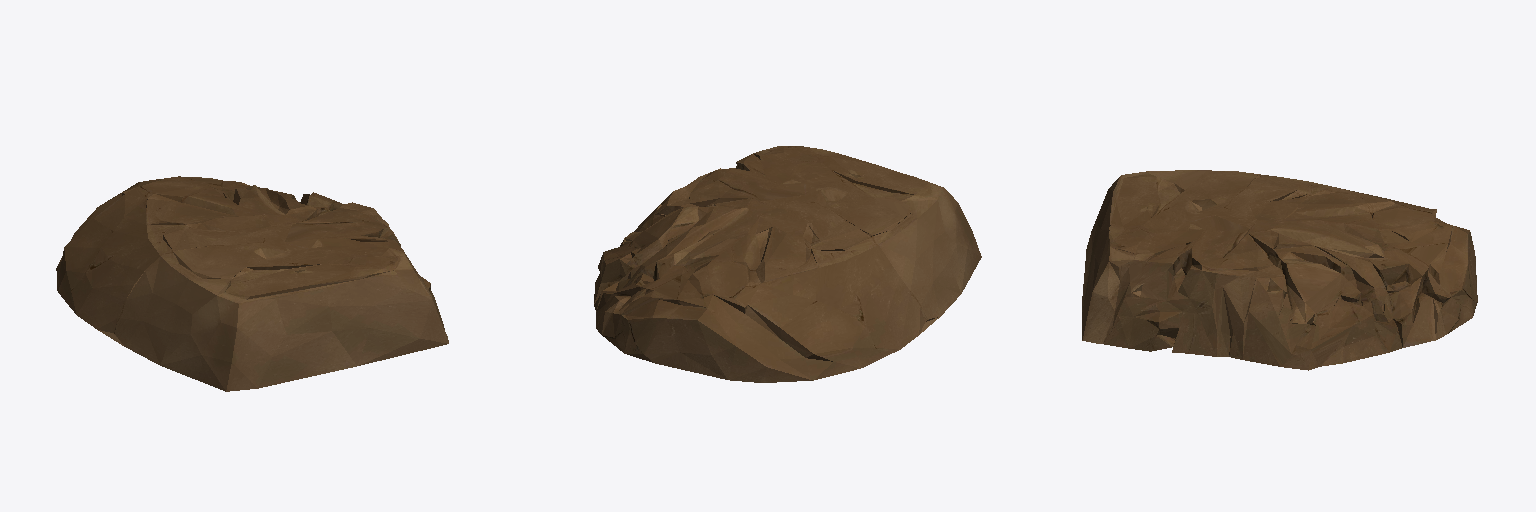
3 views of the same model, side by side, from view 1: azimuth 30°, elevation 25°; view 2: azimuth 150°, elevation 25°; view 3: azimuth 270°, elevation 25° (orthographic).
Parts seen in each view (by area): view 1: tripo_node_71727ccf-1357-4b81-90ea-49a0484ab7d3; view 2: tripo_node_71727ccf-1357-4b81-90ea-49a0484ab7d3; view 3: tripo_node_71727ccf-1357-4b81-90ea-49a0484ab7d3.
Boxes of the visible parts, <box> form: tripo_node_71727ccf-1357-4b81-90ea-49a0484ab7d3: <box>56,176,448,391</box>; tripo_node_71727ccf-1357-4b81-90ea-49a0484ab7d3: <box>594,146,981,382</box>; tripo_node_71727ccf-1357-4b81-90ea-49a0484ab7d3: <box>1082,170,1477,370</box>.
Bounding box in the file's own units: 0.9058 × 0.2154 × 0.996.
Materials: 1 (1 with a texture image).